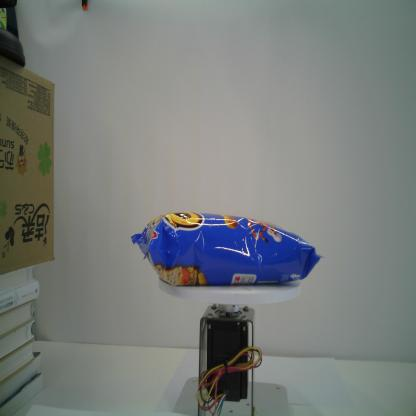Puffed Food: (129, 209, 328, 288)
